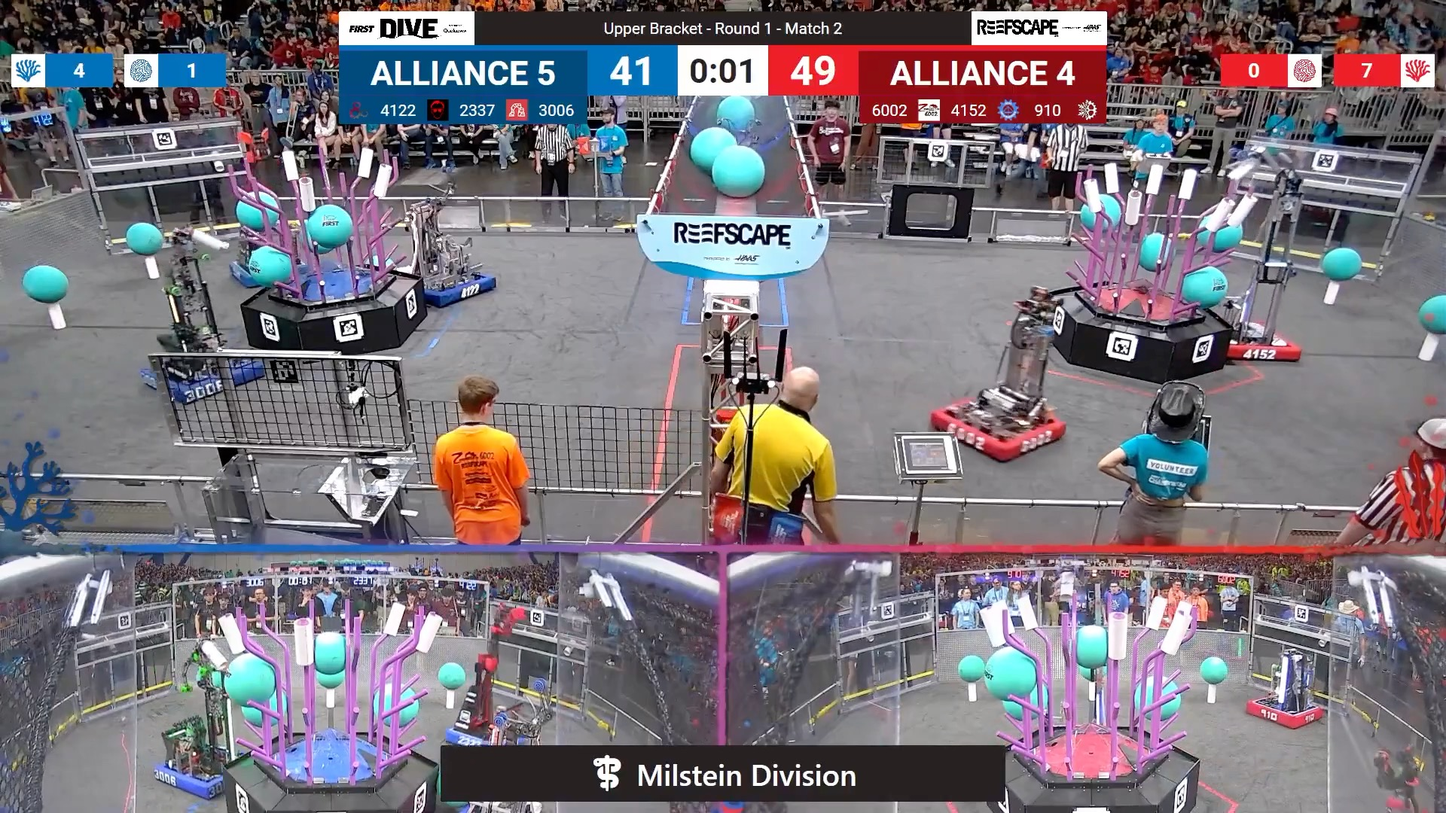bumpers: (925, 394, 1070, 461), (136, 351, 272, 403), (149, 747, 247, 800), (395, 261, 505, 307), (1213, 321, 1304, 367), (1240, 695, 1331, 732)
